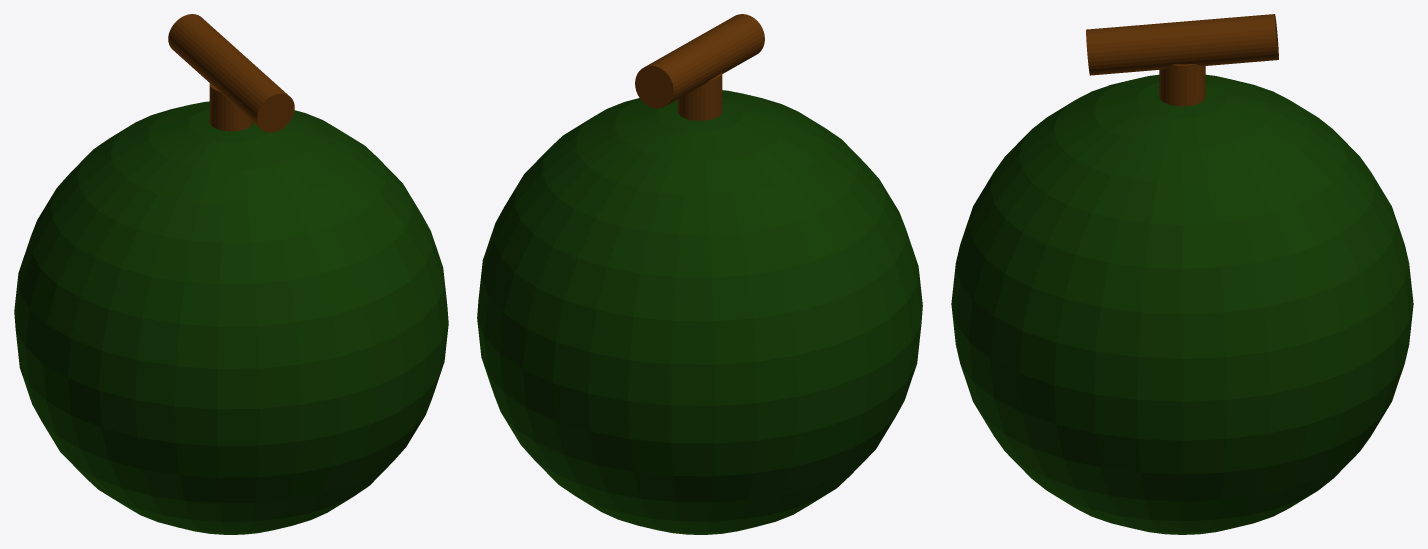
The model's file is coletavel2blend.fbx.
3 renders of one model, left to right at view 1: azimuth 30°, elevation 25°; view 2: azimuth 150°, elevation 25°; view 3: azimuth 270°, elevation 25°, orthographic. The views are drawn at different scales.
Visible parts, largest first — view 1: Sphere; view 2: Sphere; view 3: Sphere.
Part boxes in pixels (x1,y1,x2,y2): Sphere: (14, 14, 448, 534); Sphere: (477, 14, 922, 534); Sphere: (951, 14, 1413, 534).
Size of the model in its own units: 92.97 by 110 by 92.97.
